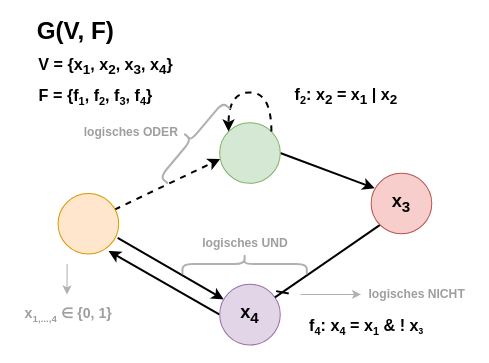
The diagram is 489 pixels wide and 363 high, and some of its shapes have lost their labels. The centre of each missing label's shape, as x and y in pixels:
"x 1" goes at [88,223].
"x 2" goes at [249,152].
